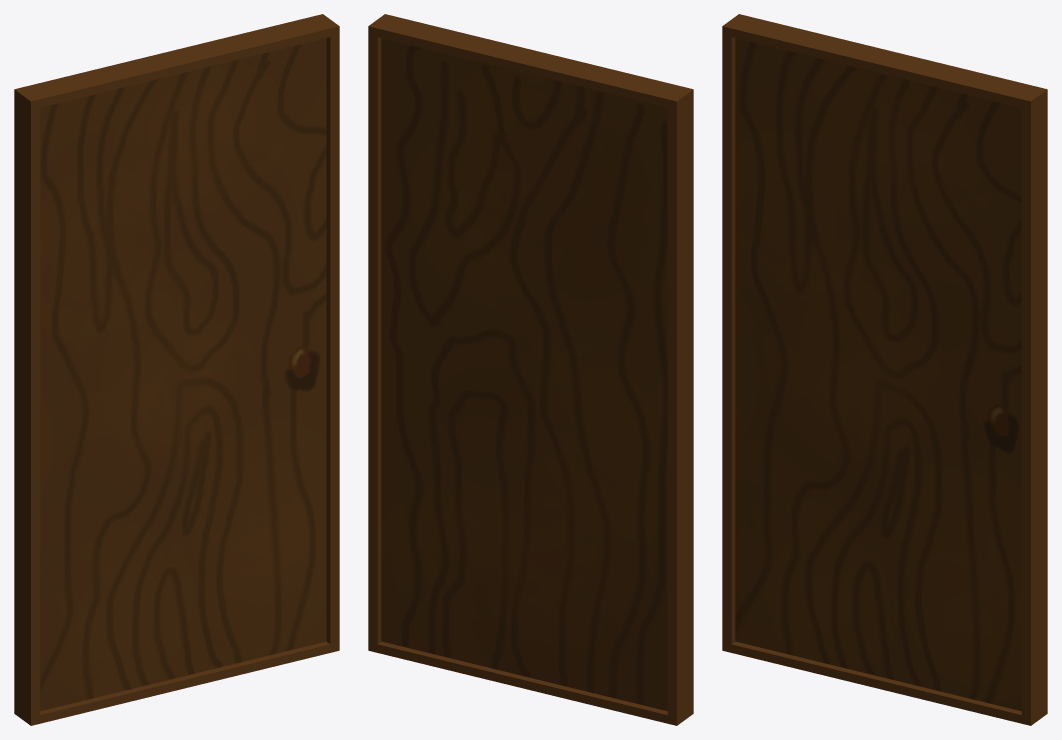
File: Drzwi.fbx
3 renders of one model, left to right at view 1: azimuth 30°, elevation 25°; view 2: azimuth 150°, elevation 25°; view 3: azimuth 330°, elevation 25°, orthographic.
Parts seen in each view (by area): view 1: Doors, Frame; view 2: Doors, Frame; view 3: Doors, Frame.
Part boxes in pixels (box(x1,y1,x2,y2)): Doors: box(40, 38, 326, 711); Frame: box(14, 14, 339, 725); Doors: box(381, 38, 667, 711); Frame: box(368, 14, 693, 725); Doors: box(735, 38, 1021, 711); Frame: box(722, 14, 1047, 725).
Bounding box in the file's own units: 213 × 411 × 20.
